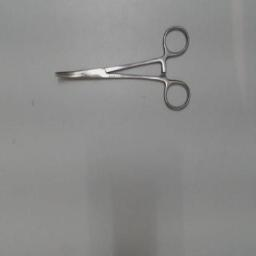Crile Artery Forceps: (50, 23, 196, 119)
